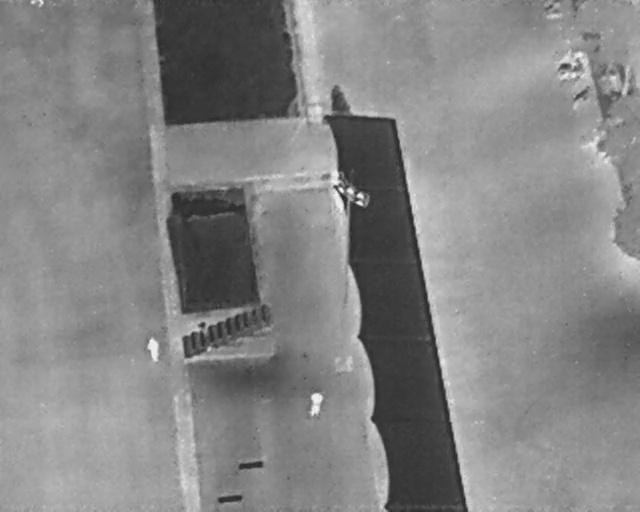Bicycle: (565, 81, 597, 112), (556, 61, 587, 79), (543, 4, 563, 21)
Person: (308, 390, 326, 417), (146, 335, 162, 362)
